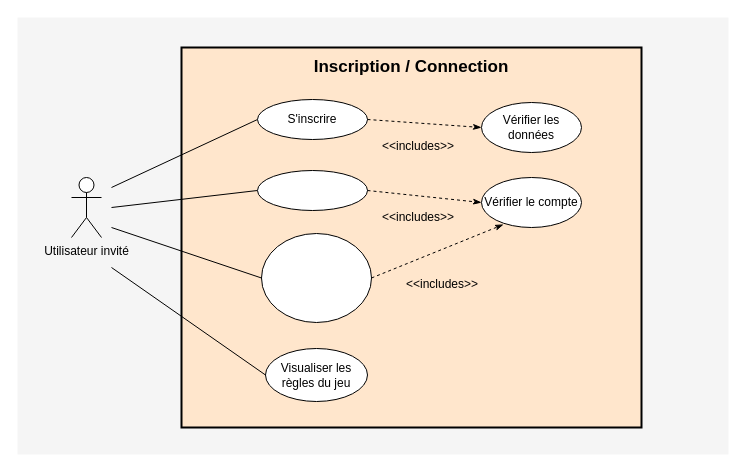
Some shapes in this 745 by 471 pixel diagram are drawn without their labels. Each missing label, with the centre of its shape:
Accéder via Google ou Facebook: (x=316, y=277)
Se connecter: (x=312, y=190)
